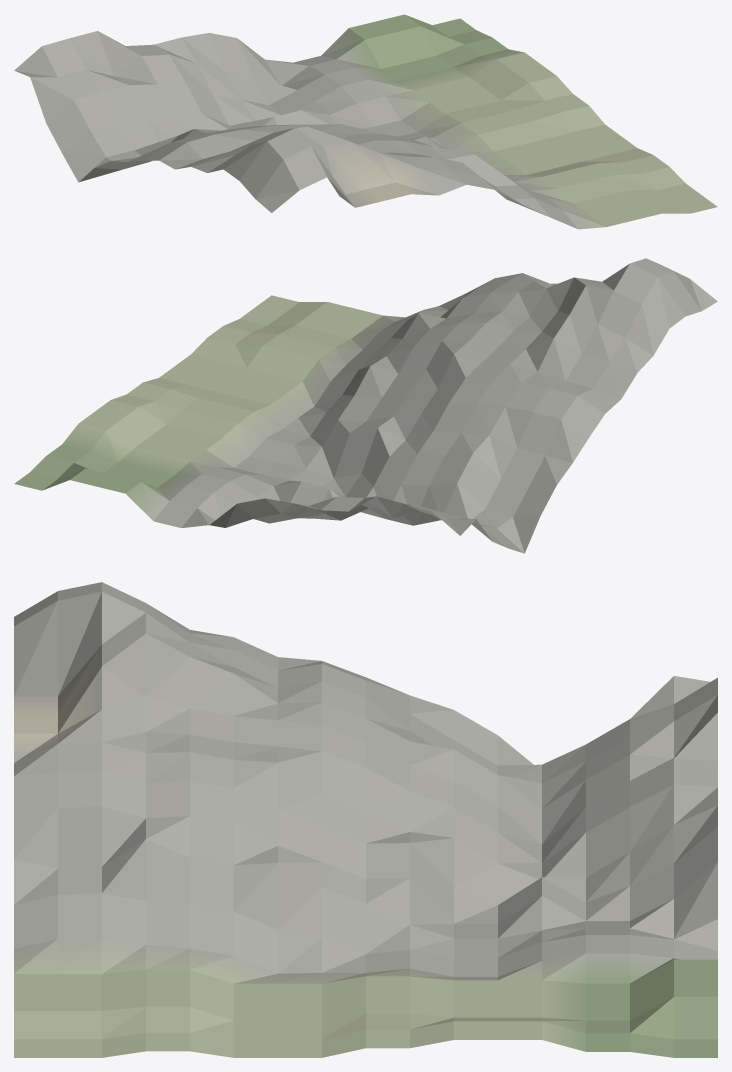
3 views of the same model, one above another, from view 1: azimuth 30°, elevation 25°; view 2: azimuth 150°, elevation 25°; view 3: azimuth 270°, elevation 25° (orthographic). The views are drawn at different scales.
Size of the model in its own units: 32 by 11.06 by 32.
